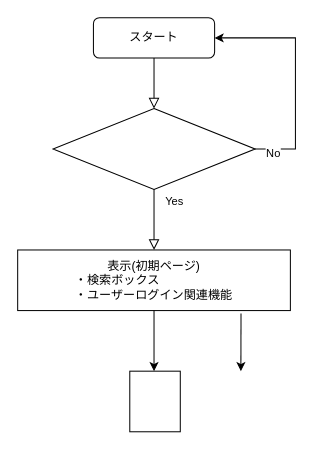
The diagram is 321 pixels wide and 449 high, and some of its shapes have lost their labels. Each missing label, with the centre of its shape:
なんかのキーワードで検索: pixel 154 401
スタートボタンを押下: pixel 153 148
